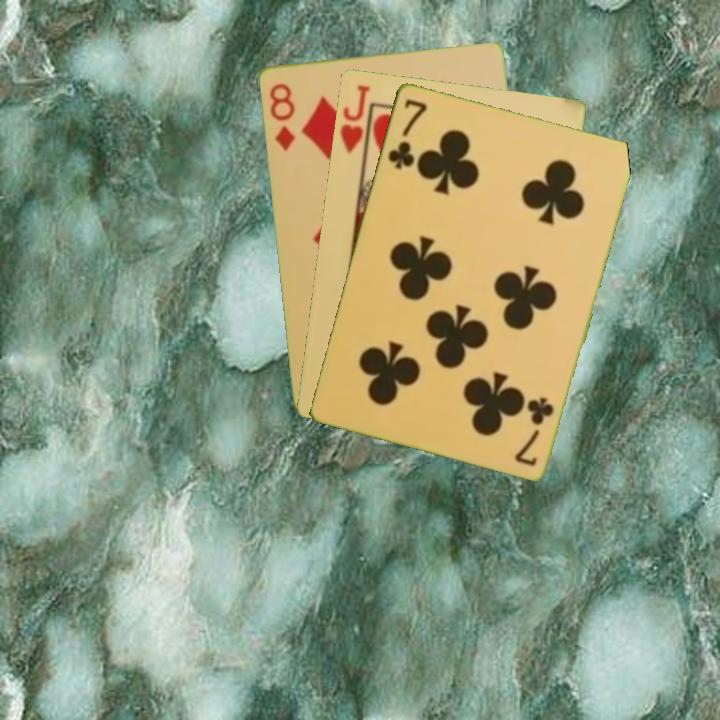7c: (384, 95, 430, 172), (512, 392, 557, 469)
8d: (265, 79, 298, 153)
Jh: (336, 81, 375, 165)
